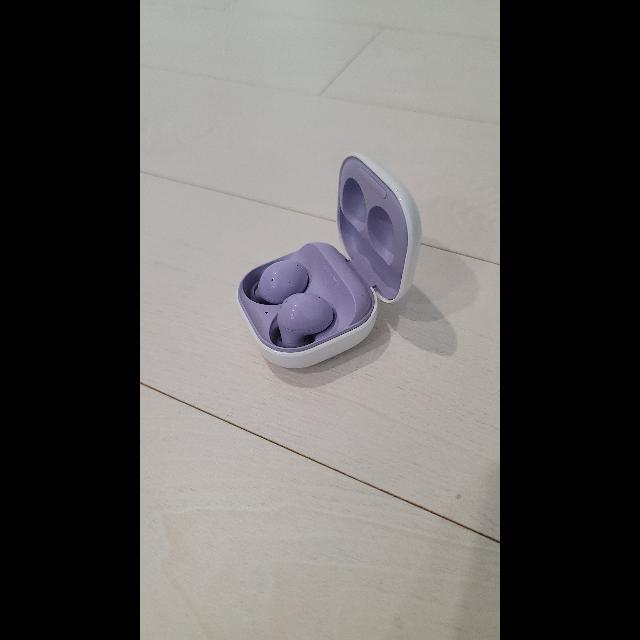GALAXY-BUDS-2: (236, 152, 421, 368)
